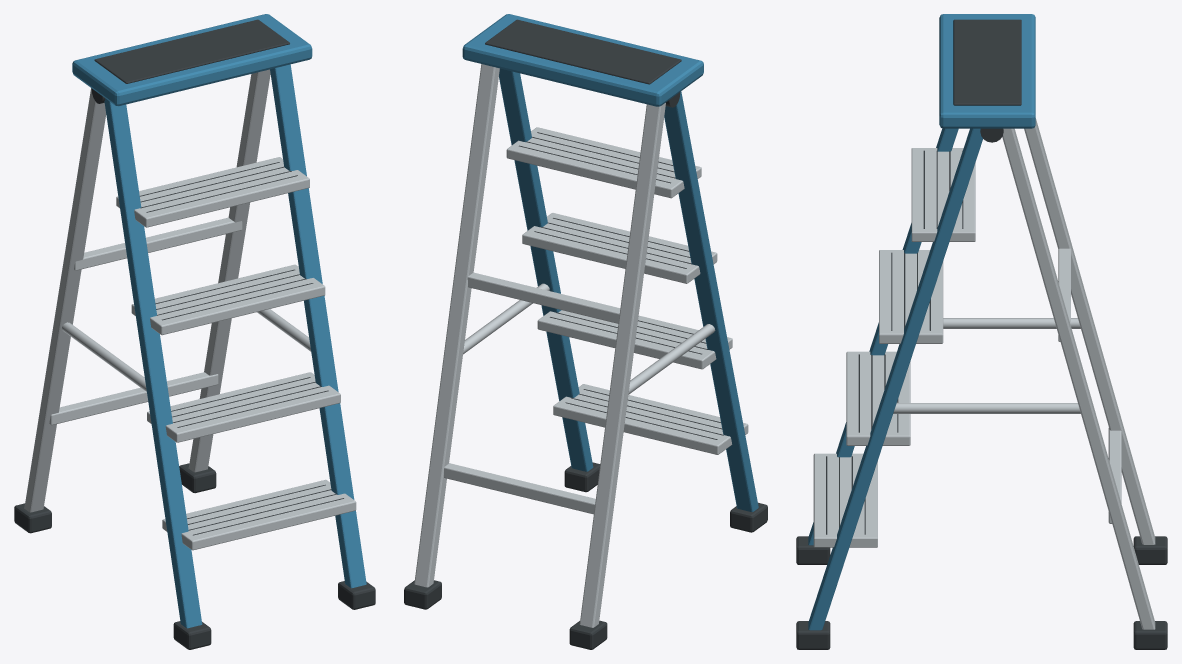
The model's file is ladder_stepladder.glb.
3 views of the same model, side by side, from view 1: azimuth 30°, elevation 25°; view 2: azimuth 150°, elevation 25°; view 3: azimuth 270°, elevation 25° (orthographic). The views are drawn at different scales.
Visible parts, largest first — view 1: Front ladder rail, Front ladder rail.001, Rear support rail, Top blue platform, Wide horizontal step.003, Wide horizontal step.002, Wide horizontal step.001, Wide horizontal step, Top non-slip pad, Rear support rail.001, Rear cross brace, Rear cross brace.001 (+6 smaller); view 2: Rear support rail, Rear support rail.001, Front ladder rail, Front ladder rail.001, Top blue platform, Top non-slip pad, Wide horizontal step, Wide horizontal step.002, Wide horizontal step.003, Wide horizontal step.001, Rear cross brace.001, Rear cross brace (+6 smaller); view 3: Front ladder rail.001, Rear support rail.001, Rear support rail, Top non-slip pad, Top blue platform, Wide horizontal step.003, Wide horizontal step.002, Wide horizontal step, Wide horizontal step.001, Side spreader brace.001, Front ladder rail, Side spreader brace (+6 smaller).
Part boxes in pixels (box(x1,y1,x2,y2)): Front ladder rail: box(104, 98, 202, 628); Front ladder rail.001: box(270, 64, 366, 588); Rear support rail: box(24, 88, 106, 512); Top blue platform: box(72, 14, 312, 106); Wide horizontal step.003: box(116, 157, 309, 227); Wide horizontal step.002: box(131, 264, 325, 335); Wide horizontal step.001: box(147, 372, 340, 442); Wide horizontal step: box(162, 479, 356, 550); Top non-slip pad: box(94, 19, 289, 83); Rear support rail.001: box(188, 69, 270, 472); Rear cross brace: box(49, 372, 218, 425); Rear cross brace.001: box(74, 217, 242, 270); Rear support rail: box(579, 103, 665, 627); Rear support rail.001: box(414, 64, 499, 587); Front ladder rail: box(664, 91, 758, 511); Front ladder rail.001: box(499, 68, 593, 471); Top blue platform: box(462, 14, 703, 106); Top non-slip pad: box(485, 19, 681, 84); Wide horizontal step: box(553, 384, 748, 454); Wide horizontal step.002: box(522, 213, 717, 283); Wide horizontal step.003: box(506, 127, 701, 198); Wide horizontal step.001: box(537, 310, 732, 369); Rear cross brace.001: box(467, 272, 620, 323); Rear cross brace: box(444, 463, 595, 514); Front ladder rail.001: box(808, 128, 982, 630); Rear support rail.001: box(1002, 128, 1155, 629); Rear support rail: box(1024, 118, 1155, 544); Top non-slip pad: box(953, 19, 1021, 105); Top blue platform: box(939, 14, 1035, 128); Wide horizontal step.003: box(911, 148, 975, 241); Wide horizontal step.002: box(879, 250, 943, 343); Wide horizontal step: box(813, 453, 877, 547); Wide horizontal step.001: box(846, 351, 910, 445); Side spreader brace.001: box(893, 403, 1080, 413); Front ladder rail: box(808, 128, 958, 545); Side spreader brace: box(943, 318, 1080, 328).
Size of the model in its own units: 0.6 by 1.49 by 0.925.
